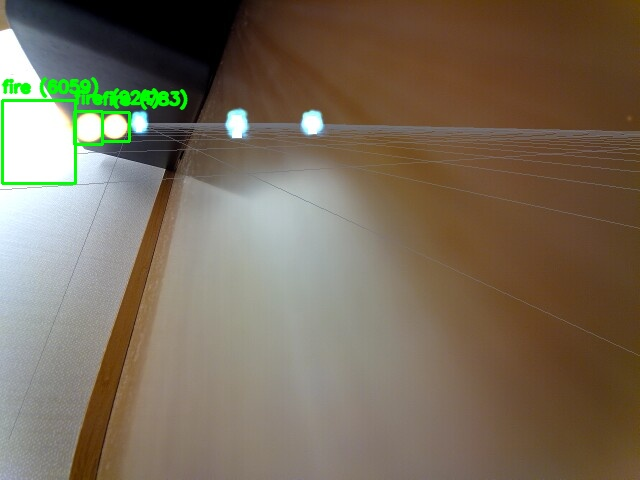fire: (2, 100, 75, 183), (74, 111, 102, 144), (102, 112, 129, 141)
